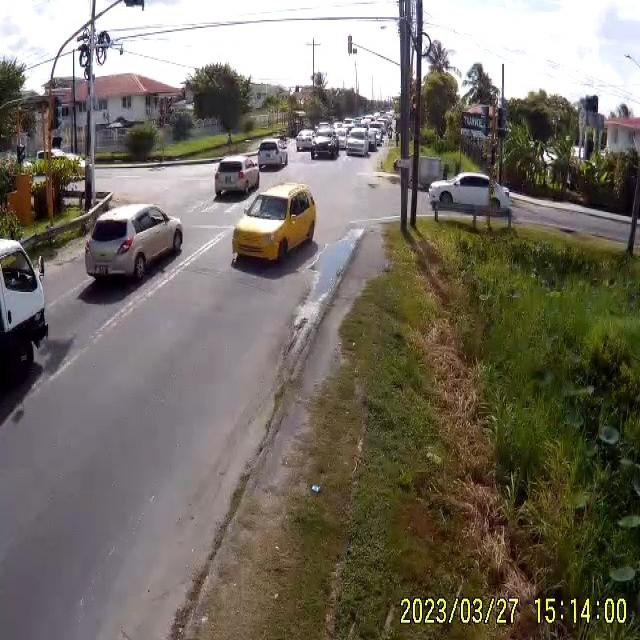car: (85, 203, 185, 281), (231, 184, 319, 268), (427, 174, 514, 229), (214, 155, 260, 200), (256, 141, 288, 172), (310, 133, 338, 158), (344, 131, 368, 155), (296, 130, 315, 150)
truck: (0, 236, 47, 385)
